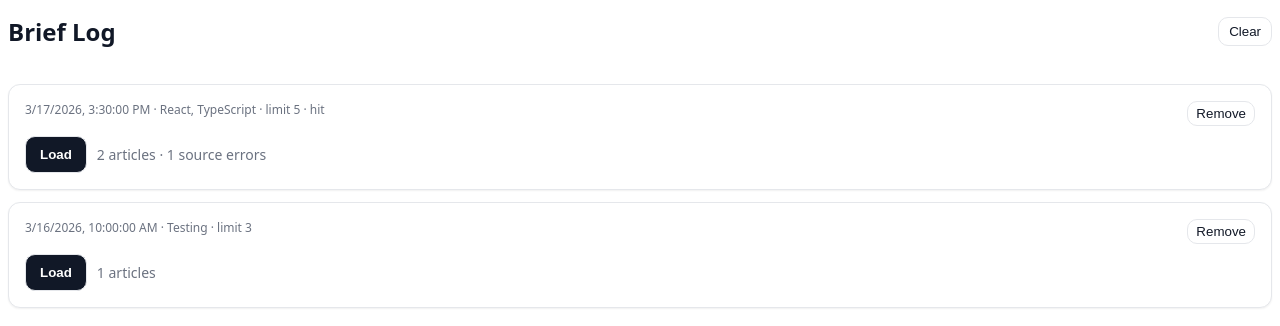
Scenario: BriefLogView › clears all briefs when Clear is clicked
Click the button "Clear" at [1245, 31], box [1218, 17, 1272, 46]
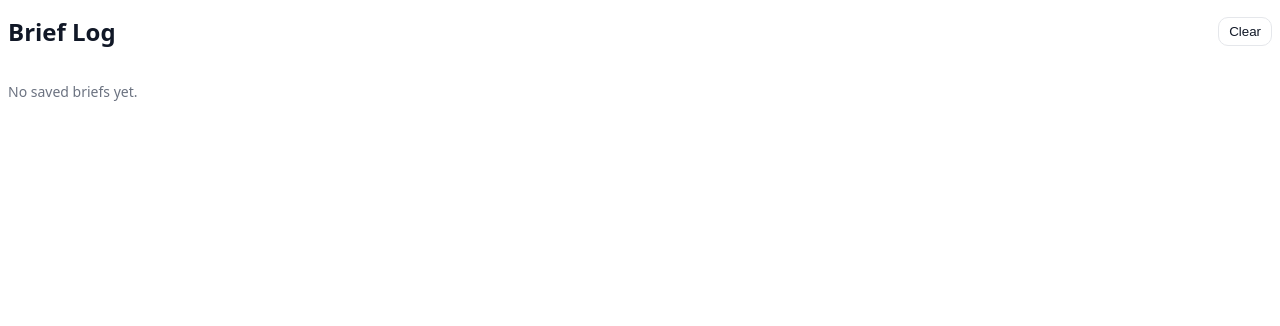
Now the text "No saved briefs yet." is shown, box [8, 82, 138, 101]
